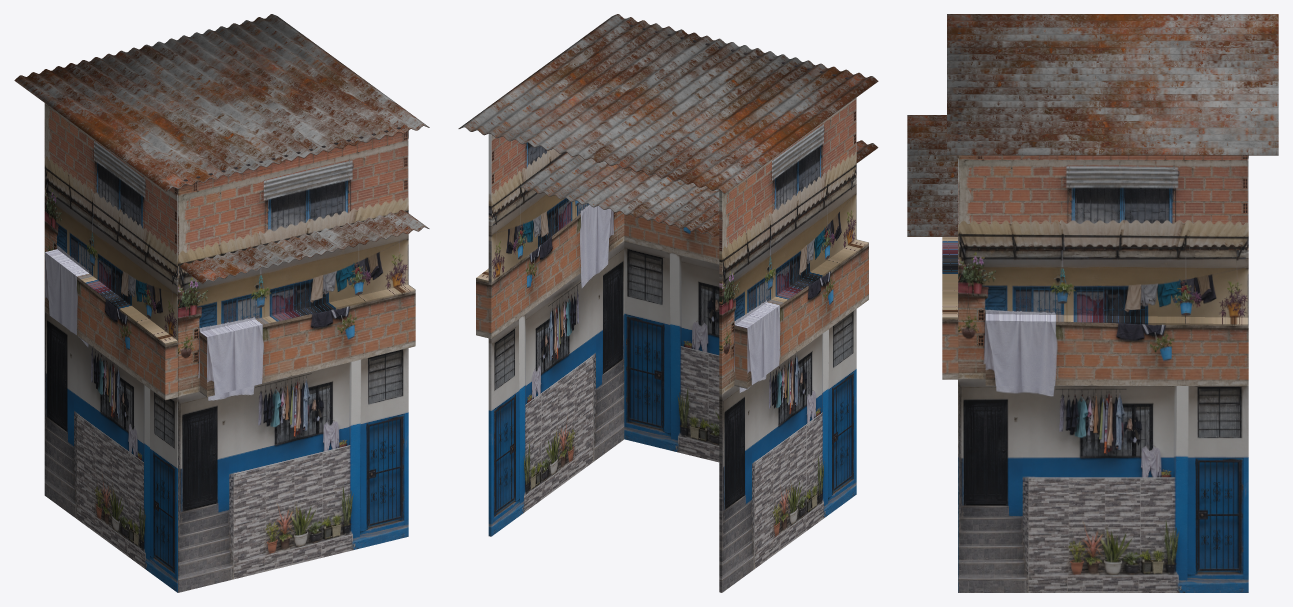
Rendered from casa_derecha_07S.fbx.
3 renders of one model, left to right at view 1: azimuth 30°, elevation 25°; view 2: azimuth 150°, elevation 25°; view 3: azimuth 270°, elevation 25°, orthographic. The views are drawn at different scales.
Visible parts, largest first — view 1: casa_derecha_07S.001, casa_derecha_07S.003, CorrigatedPanel-2x2.003, CorrigatedPanel-2x2.004; view 2: casa_derecha_07S.003, casa_derecha_07S.002, CorrigatedPanel-2x2.003, casa_derecha_07S.001, CorrigatedPanel-2x2.004; view 3: casa_derecha_07S.002, CorrigatedPanel-2x2.003, CorrigatedPanel-2x2.004, casa_derecha_07S.001.
Boxes of the visible parts, left/top/right/bottom form: casa_derecha_07S.001: left=178, top=127, right=415, bottom=592; casa_derecha_07S.003: left=44, top=103, right=177, bottom=592; CorrigatedPanel-2x2.003: left=14, top=14, right=429, bottom=191; CorrigatedPanel-2x2.004: left=180, top=210, right=429, bottom=283; casa_derecha_07S.003: left=719, top=97, right=868, bottom=592; casa_derecha_07S.002: left=476, top=133, right=624, bottom=536; CorrigatedPanel-2x2.003: left=458, top=14, right=878, bottom=193; casa_derecha_07S.001: left=624, top=24, right=849, bottom=462; CorrigatedPanel-2x2.004: left=517, top=140, right=878, bottom=236; casa_derecha_07S.002: left=958, top=155, right=1248, bottom=592; CorrigatedPanel-2x2.003: left=947, top=14, right=1278, bottom=155; CorrigatedPanel-2x2.004: left=907, top=115, right=957, bottom=236; casa_derecha_07S.001: left=942, top=26, right=961, bottom=592.
Bounding box in the file's own units: 775 × 1161 × 868.
